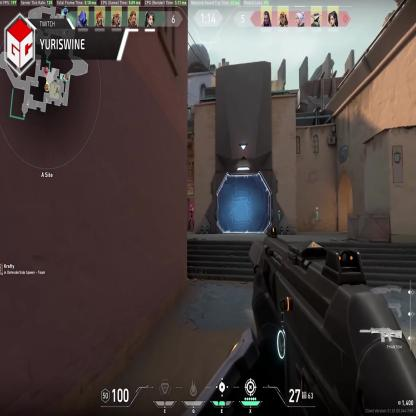enemy: (188, 202, 195, 233)
enemy_head: (190, 204, 193, 208)
